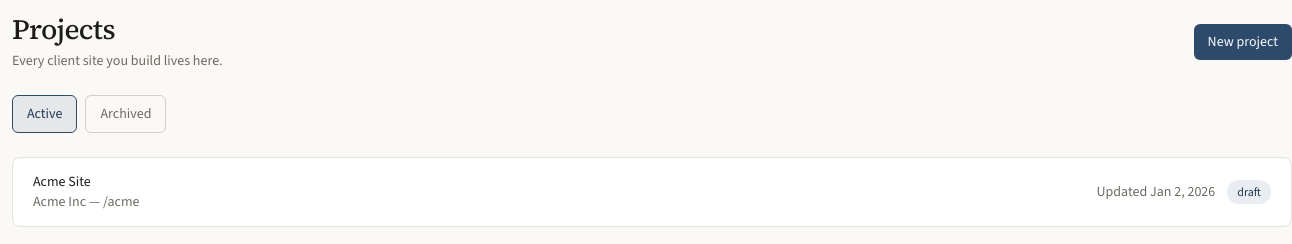
Scenario: ProjectsPage › switches between active and archived and refetches with the new status
The width and height of the screenshot is (1292, 244).
Expected: the link "Acme Site Acme Inc — /acme Updated Jan 2, 2026 draft" is shown, x1=33 y1=172 x2=1271 y2=211
Click the radio button labelled "archived". click: point(126, 114)
box: x1=86 y1=95 x2=166 y2=133
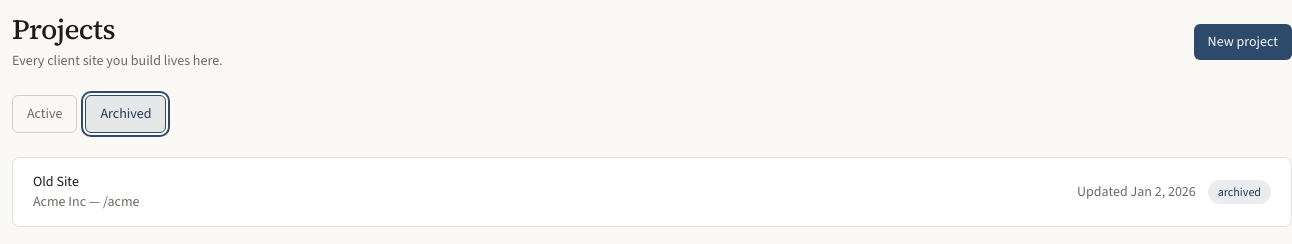
Now the link "Old Site Acme Inc — /acme Updated Jan 2, 2026 archived" is shown, box x1=33 y1=172 x2=1271 y2=211
